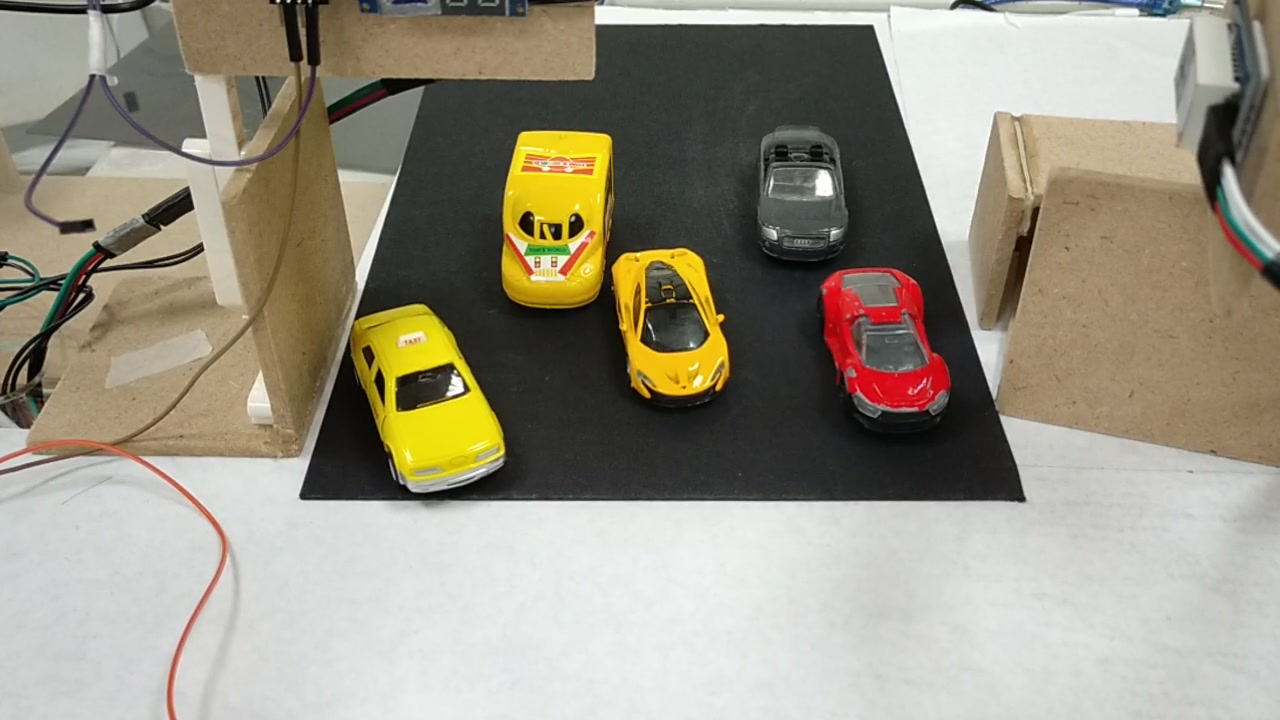car: (347, 306, 505, 489), (816, 271, 952, 428), (610, 251, 732, 410), (755, 126, 848, 258)
